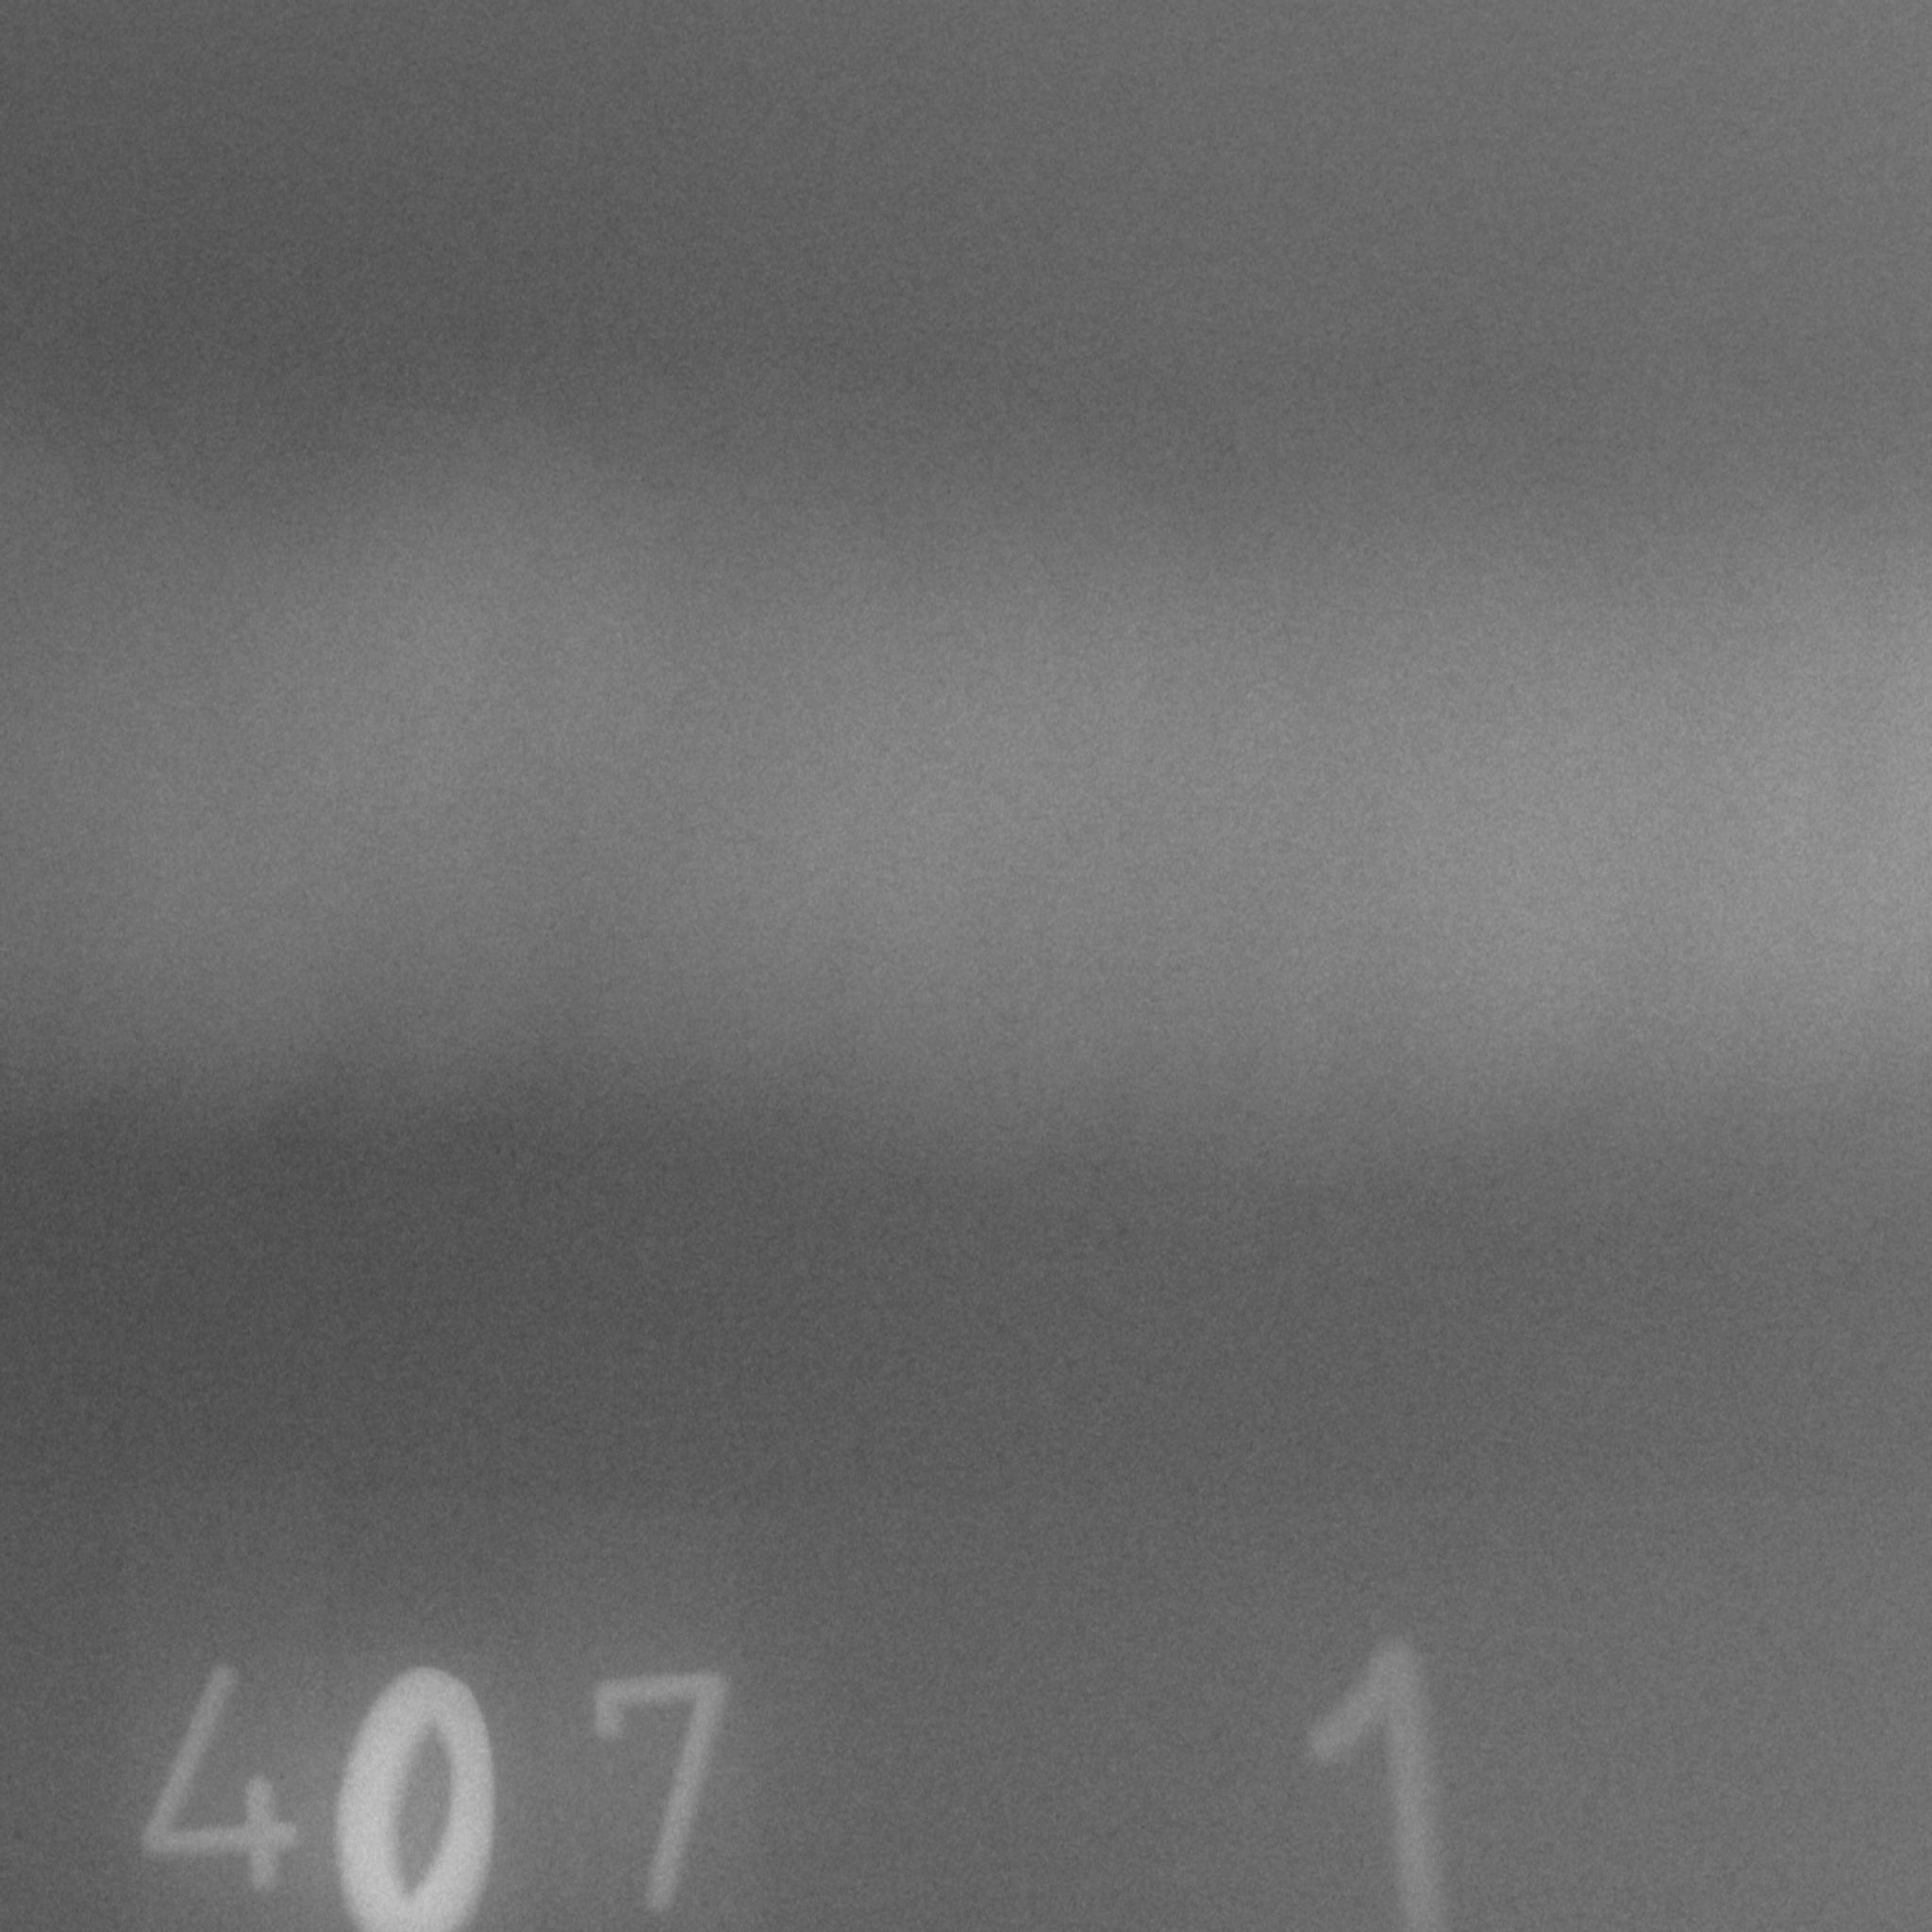Sem defeitos: (0, 244, 1932, 1288)
